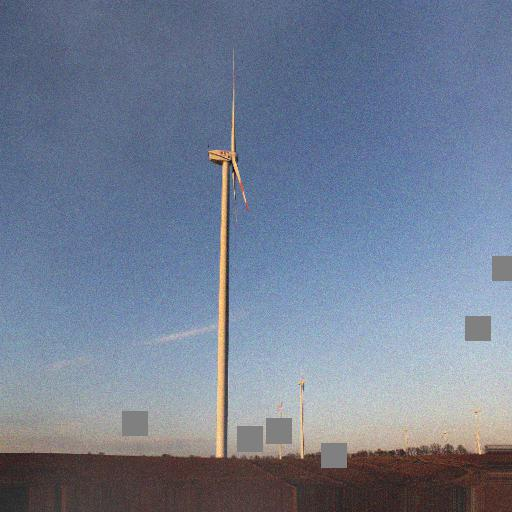wind turbine: (207, 47, 252, 461)
